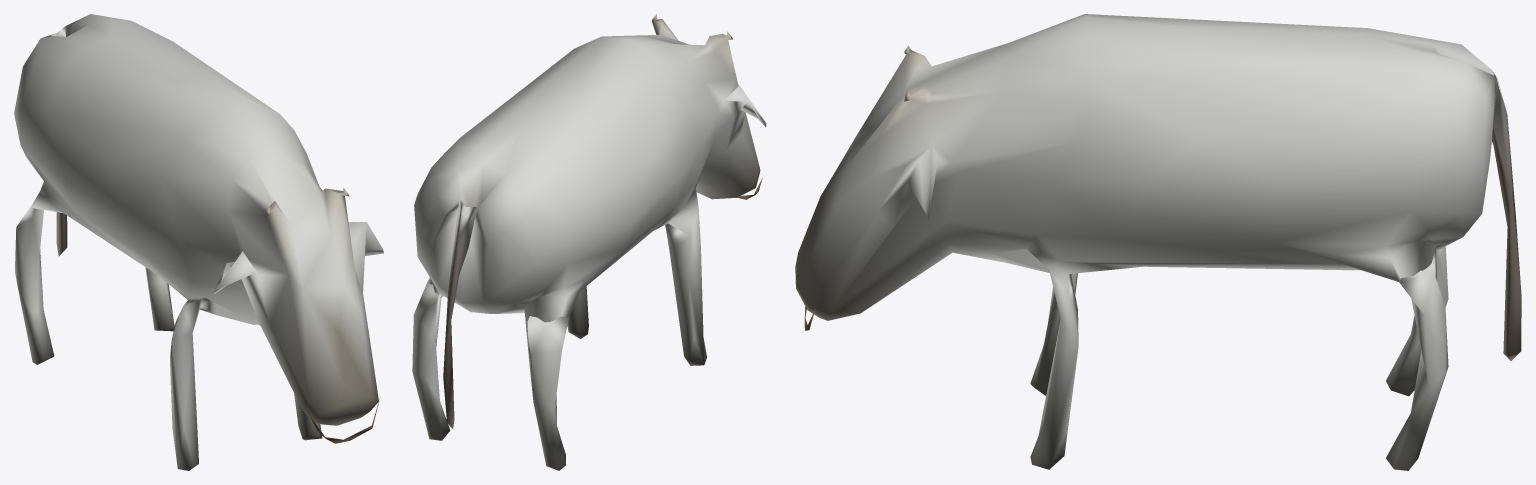
The model's file is cattle-1.glb.
3 views of the same model, side by side, from view 1: azimuth 30°, elevation 25°; view 2: azimuth 150°, elevation 25°; view 3: azimuth 270°, elevation 25° (orthographic). The views are drawn at different scales.
Parts seen in each view (by area): view 1: cattle; view 2: cattle; view 3: cattle.
Part boxes in pixels (x1,y1,x2,y2): cattle: [14, 14, 383, 470]; cattle: [412, 14, 766, 470]; cattle: [795, 14, 1521, 470].
Size of the model in its own units: 0.5942 by 1.08 by 1.73.
